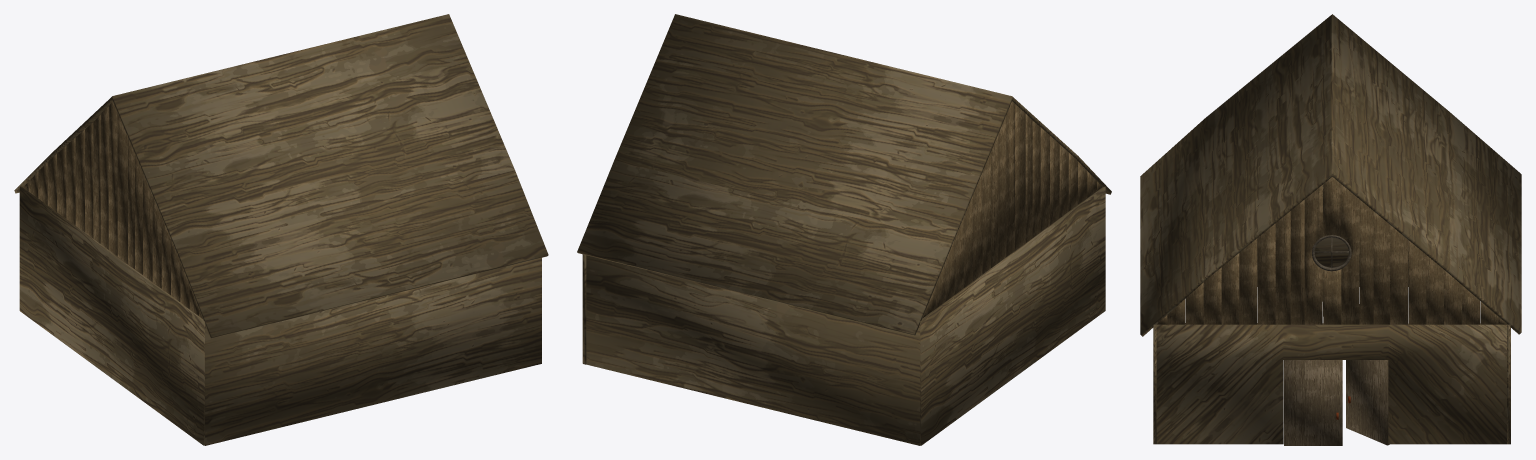
File: Granero.fbx
3 views of the same model, side by side, from view 1: azimuth 30°, elevation 25°; view 2: azimuth 150°, elevation 25°; view 3: azimuth 270°, elevation 25° (orthographic). The views are drawn at different scales.
Visible parts, largest first — view 1: Techo.002, Pared.008, Pared.011, Tablas.007, Tablas.011, Tablas.008, Tablas.012, Tablas.009, Tablas.013; view 2: Techo.002, Pared.010, Pared.011, Tablas.007, Tablas.011, Tablas.008, Tablas.009, Tablas.012, Tablas.010; view 3: Techo.002, Pared.009, Tablas.003, Tablas.004, Tablas.002, Puerta.002, Tablas.001, Tablas.005, Puerta.003, Tablas, Pared.011, Tablas.006 (+3 smaller).
Part boxes in pixels (left/top/right/bottom): Techo.002: left=14, top=14, right=548, bottom=338; Pared.008: left=204, top=258, right=541, bottom=445; Pared.011: left=19, top=186, right=204, bottom=445; Tablas.007: left=100, top=101, right=127, bottom=263; Tablas.011: left=75, top=115, right=100, bottom=243; Tablas.008: left=128, top=138, right=152, bottom=281; Tablas.012: left=47, top=137, right=75, bottom=225; Tablas.009: left=152, top=196, right=180, bottom=301; Tablas.013: left=23, top=162, right=47, bottom=204; Techo.002: left=577, top=14, right=1111, bottom=335; Pared.010: left=582, top=254, right=920, bottom=445; Pared.011: left=920, top=186, right=1105, bottom=445; Tablas.007: left=998, top=101, right=1025, bottom=262; Tablas.011: left=973, top=135, right=998, bottom=281; Tablas.008: left=1025, top=114, right=1049, bottom=242; Tablas.009: left=1050, top=136, right=1077, bottom=224; Tablas.012: left=945, top=195, right=972, bottom=301; Tablas.010: left=1078, top=161, right=1101, bottom=204; Techo.002: left=1140, top=14, right=1521, bottom=336; Pared.009: left=1156, top=323, right=1510, bottom=444; Tablas.003: left=1304, top=177, right=1359, bottom=324; Tablas.004: left=1359, top=200, right=1407, bottom=324; Tablas.002: left=1257, top=199, right=1304, bottom=324; Puerta.002: left=1284, top=360, right=1342, bottom=445; Tablas.001: left=1203, top=238, right=1257, bottom=324; Tablas.005: left=1408, top=240, right=1462, bottom=324; Puerta.003: left=1346, top=360, right=1389, bottom=445; Tablas: left=1157, top=282, right=1203, bottom=324; Pared.011: left=1257, top=184, right=1408, bottom=286; Tablas.006: left=1462, top=286, right=1506, bottom=324.
Bounding box in the file's own units: 11084 × 8825 × 11163.
